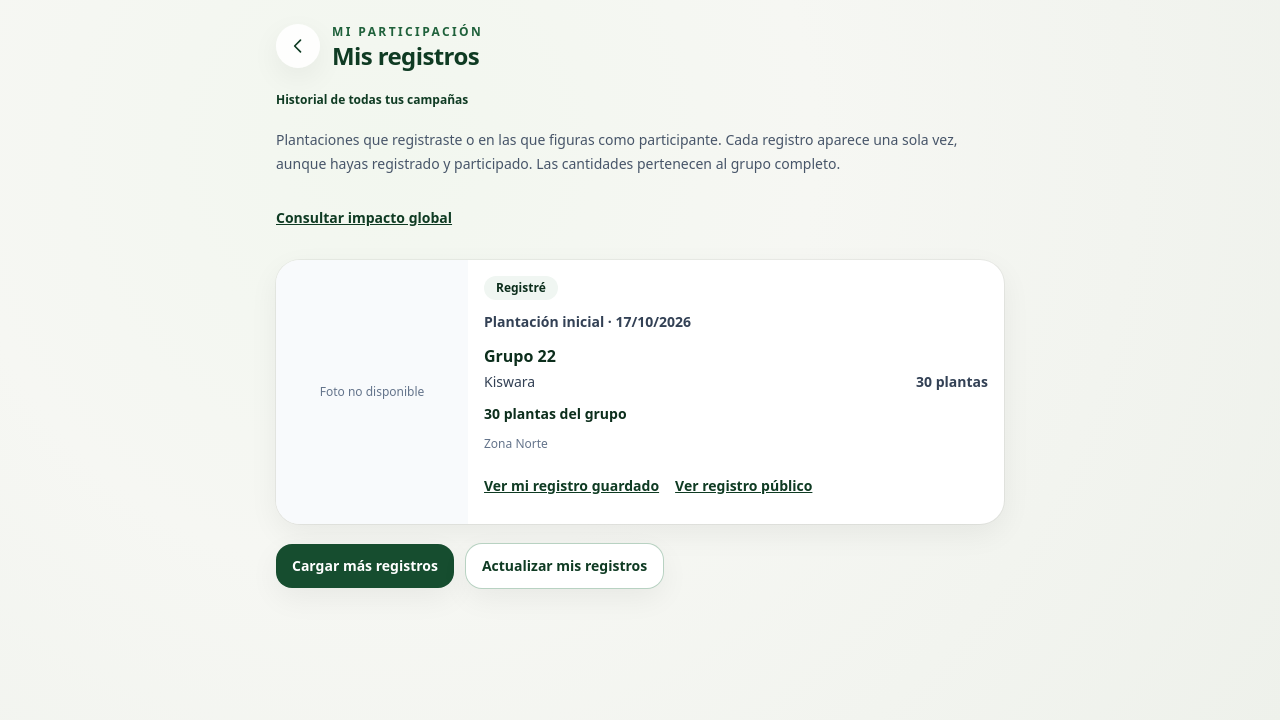
Test: Mis registros por relación histórica › detecta cursor repetido, conserva la lista confirmada y evita anexar la página inválida
Click the button "Cargar más registros". click: (365, 566)
box: [276, 544, 454, 588]
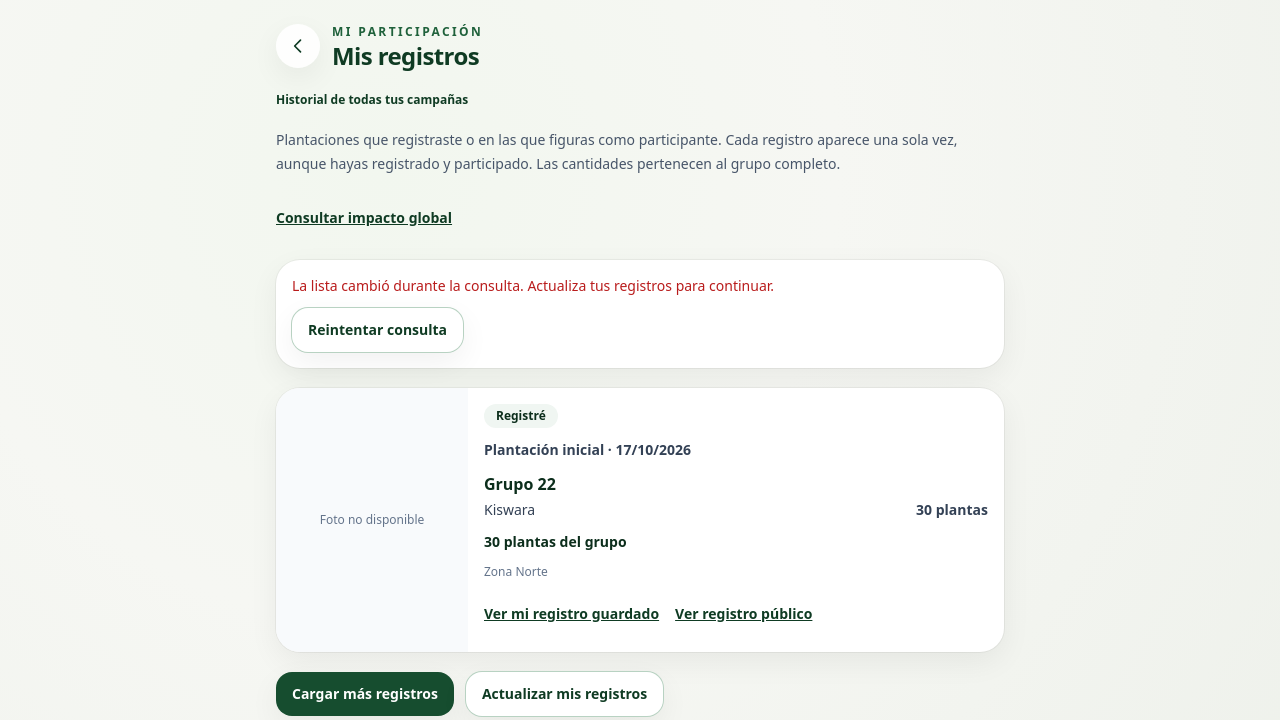
Expected: the heading "Grupo 22" is shown, [484, 473, 556, 495]
Expected: the message shows "lista cambió", [292, 276, 774, 295]
